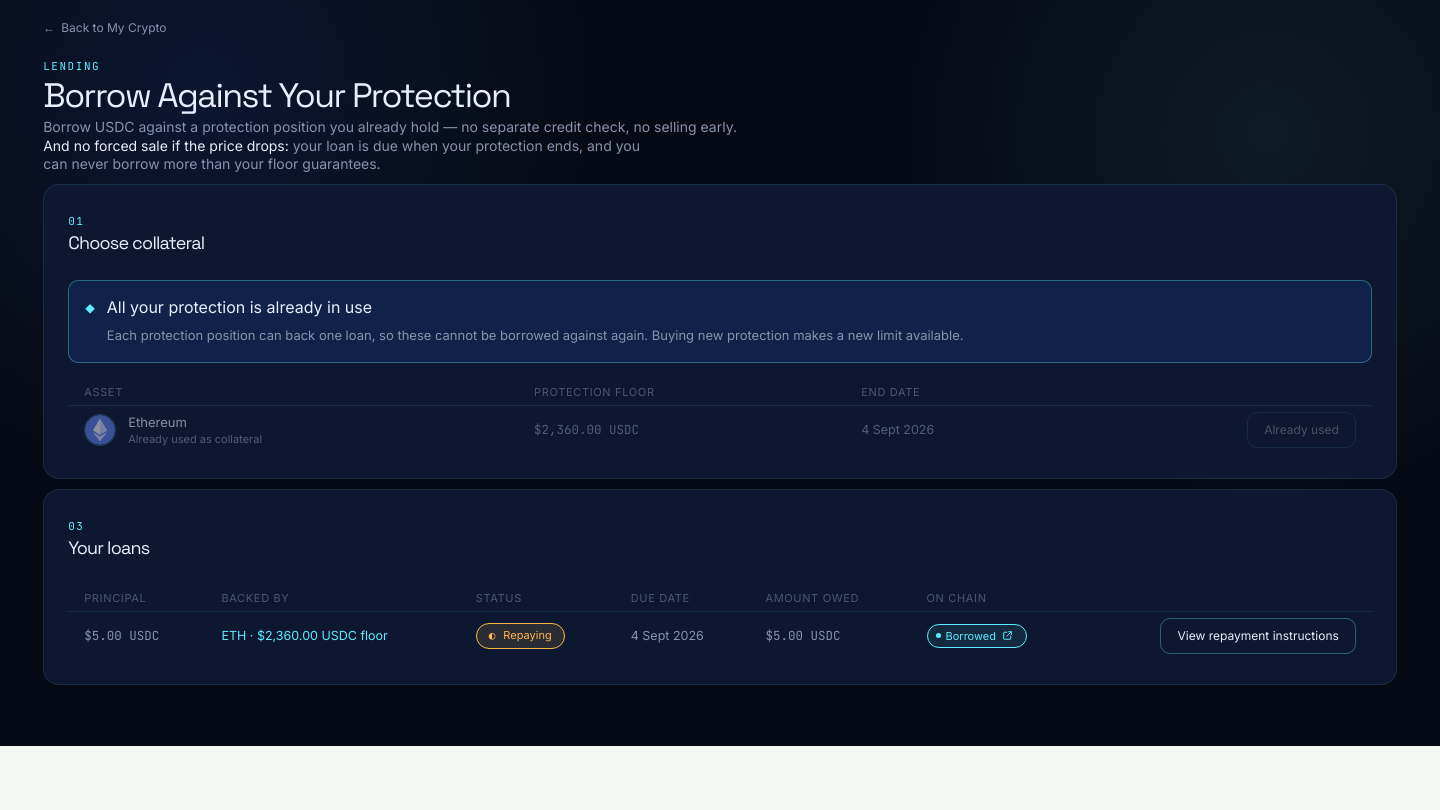
Test: LendingPage › shows all four transfer fields, with the source address present
This screenshot has width=1440, height=810.
Click the button "View repayment instructions": [1258, 636] box [1160,618,1356,654]
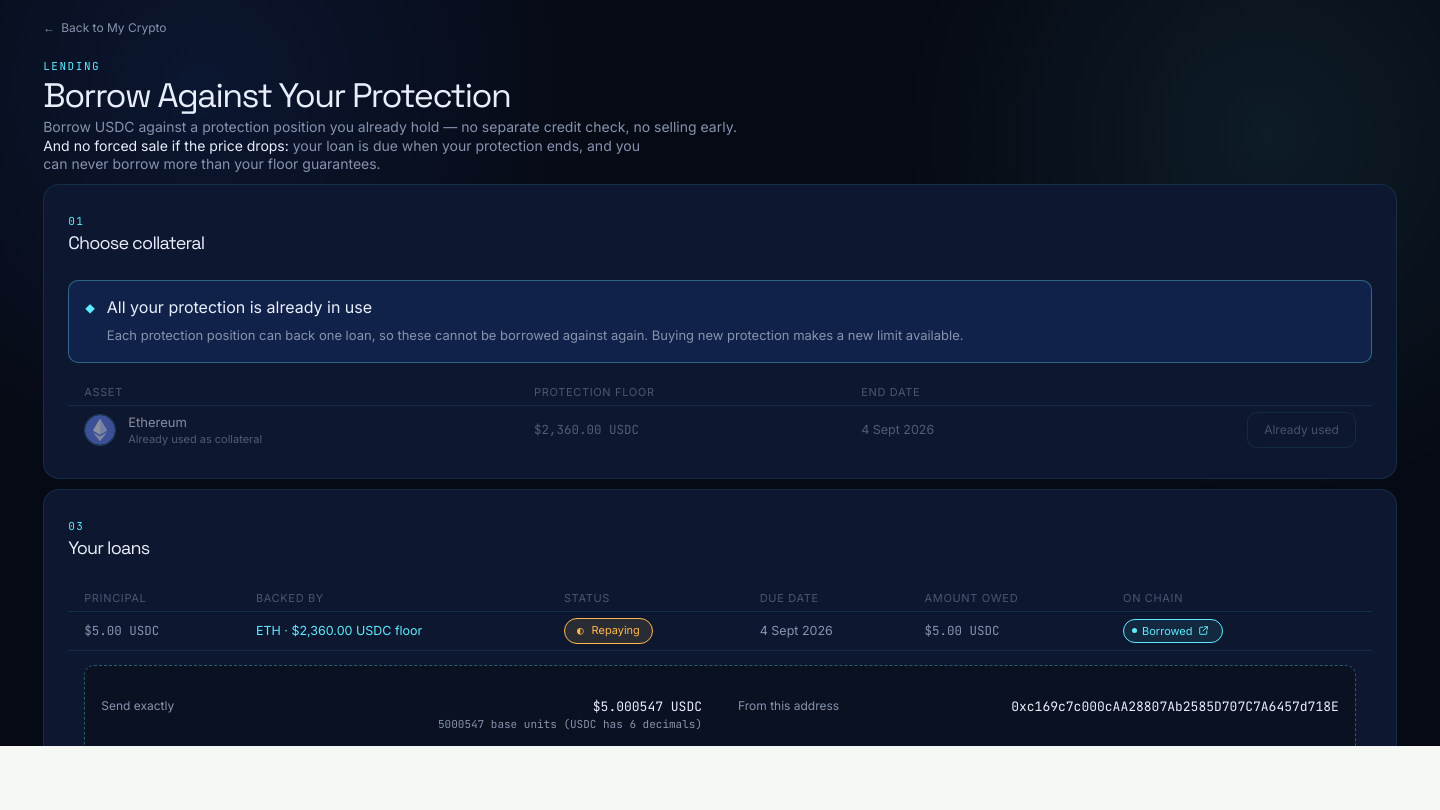
Now the text "From this address" is shown, box [738,698,839,712]
Now the text "0xc169c7c000cAA28807Ab2585D707C7A6457d718E" is shown, box [1011,698,1339,714]
